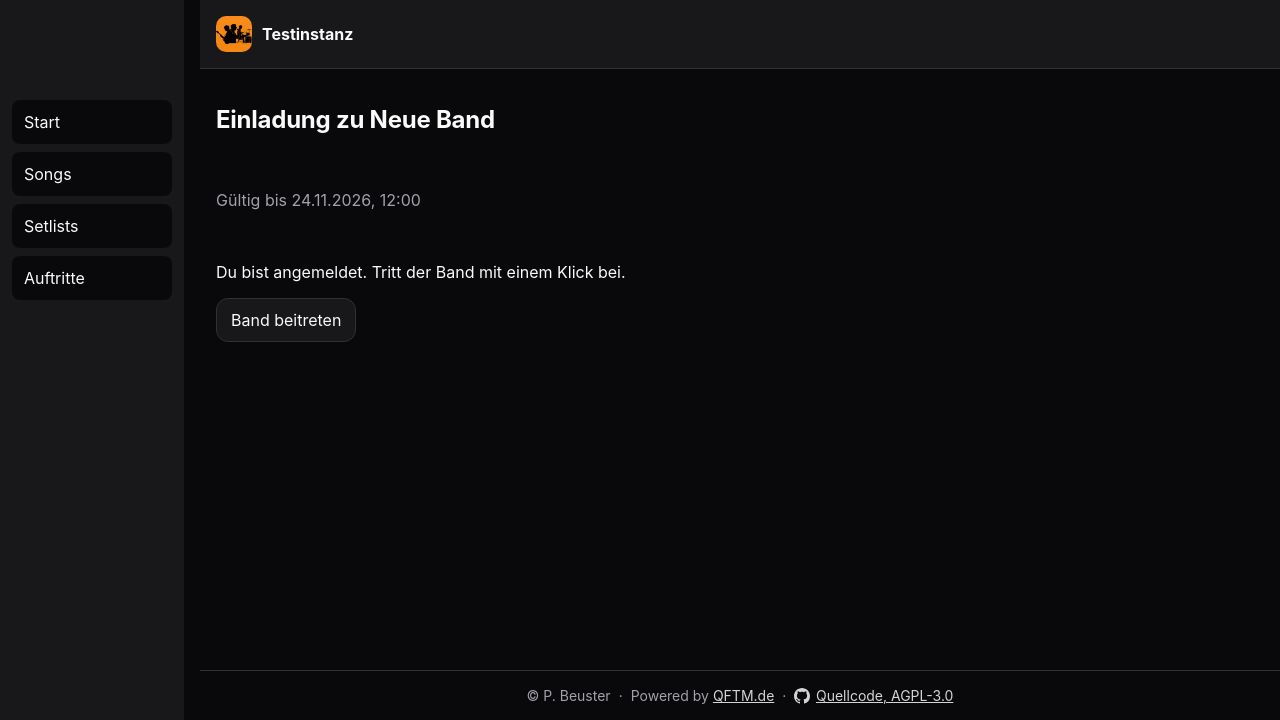
Test: Band anlegen und später Einladungsbeitritt › überschreibt eine neue Navigation bei verzögertem Einladungs-POST nicht
This screenshot has width=1280, height=720.
Click the button "Band beitreten" at (286, 320), box [216,298,356,342]
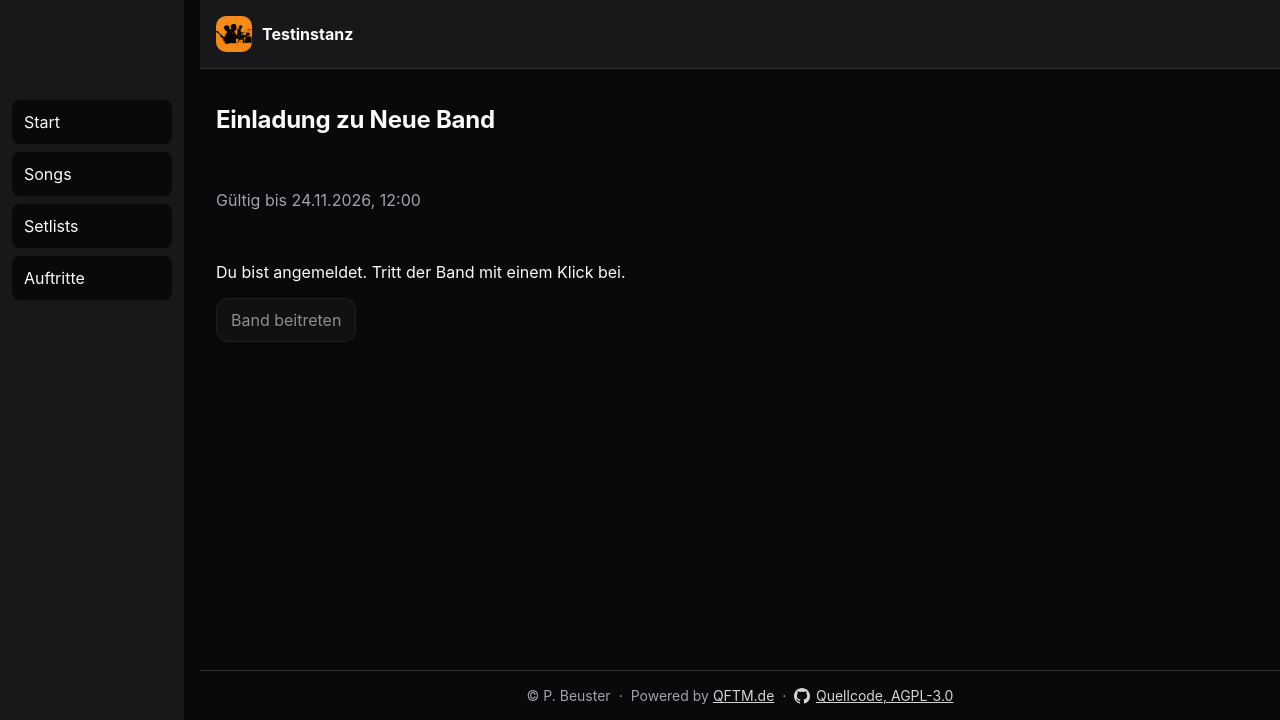
Click the link "Songs" at (92, 174), box [12,152,172,196]
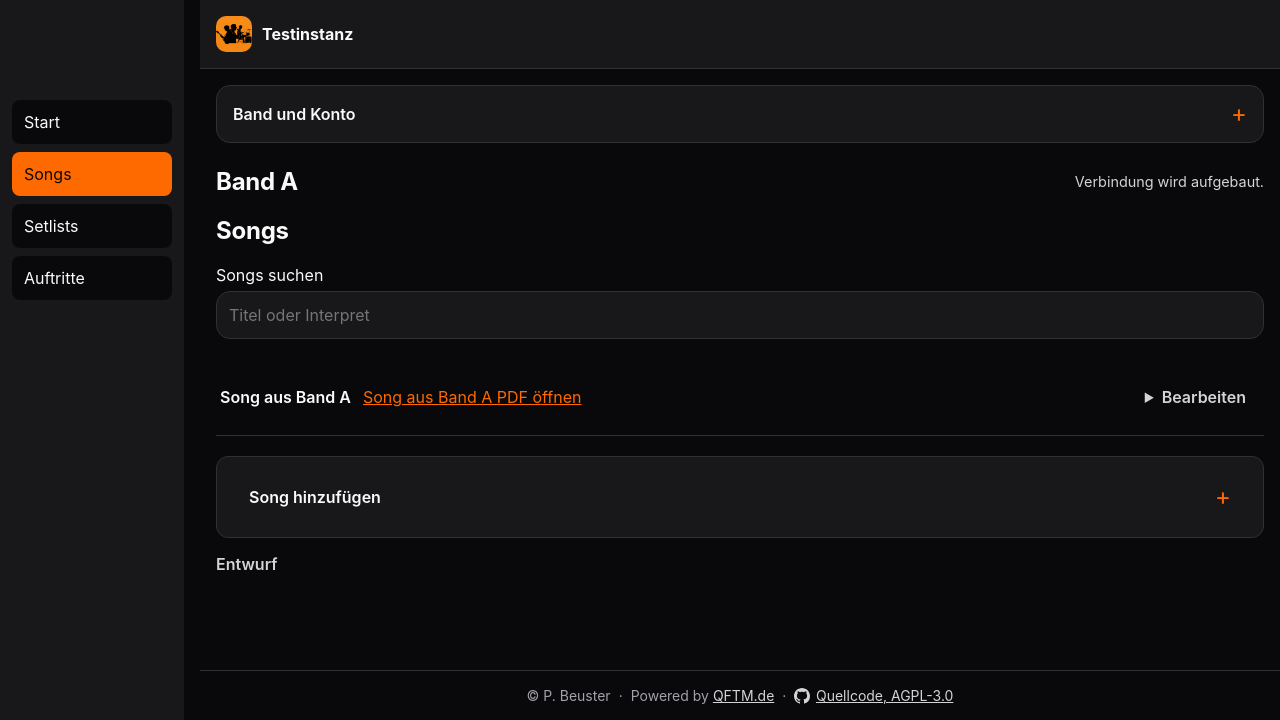
Now the heading "Band A" is shown, box [216,167,298,196]
Now the text "Song aus Band A" is shown, box [220,387,351,407]
